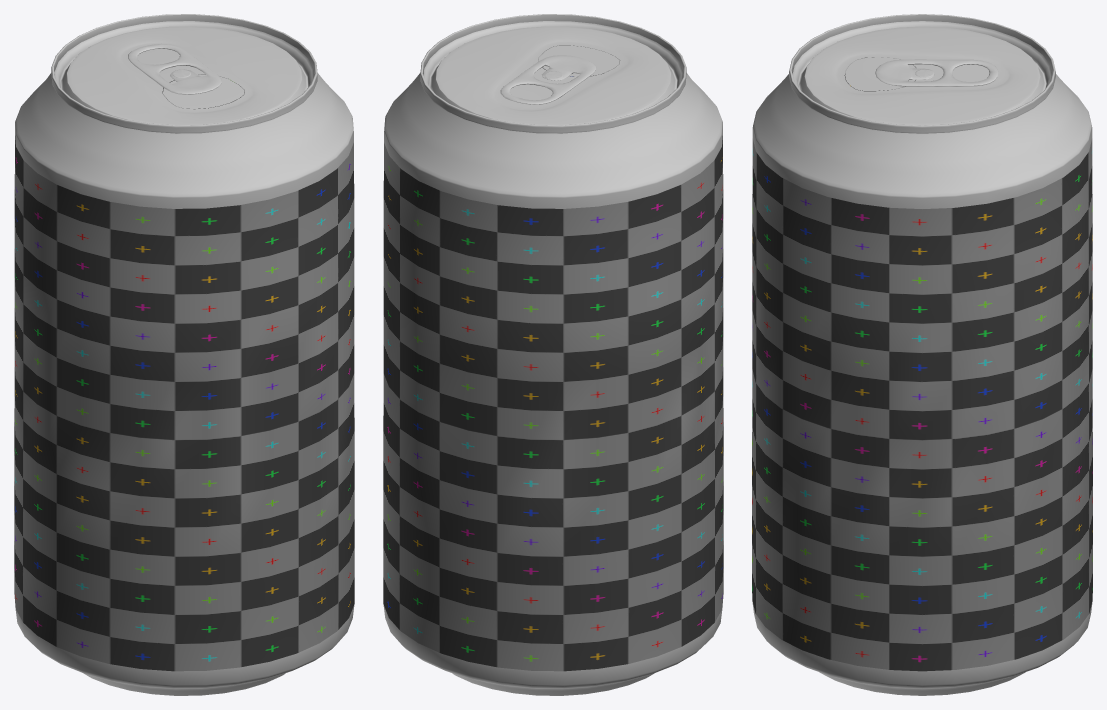
The model's file is can-crush-top-060122.gltf.
3 renders of one model, left to right at view 1: azimuth 30°, elevation 25°; view 2: azimuth 150°, elevation 25°; view 3: azimuth 270°, elevation 25°, orthographic.
Parts seen in each view (by area): view 1: can-label, can-metal; view 2: can-label, can-metal; view 3: can-label, can-metal.
Boxes of the visible parts, bbox=[...] form: can-label: bbox=[14, 74, 354, 671]; can-metal: bbox=[15, 14, 354, 695]; can-label: bbox=[383, 67, 723, 671]; can-metal: bbox=[383, 14, 722, 695]; can-label: bbox=[752, 66, 1092, 671]; can-metal: bbox=[752, 14, 1092, 695].
Bounding box in the file's own units: 0.066 × 0.1227 × 0.066.
Materials: 2 (1 with a texture image).
